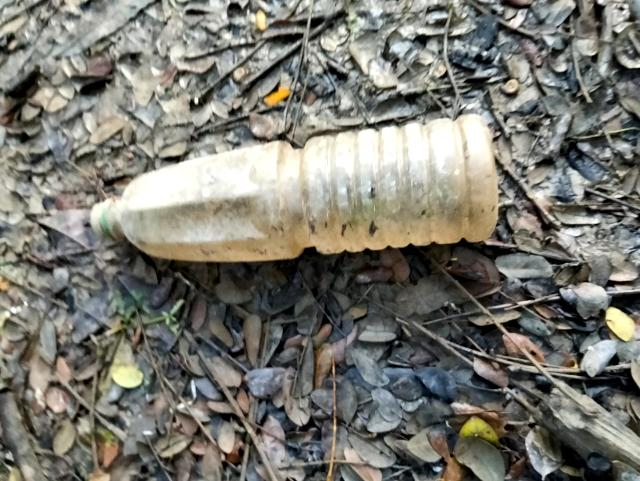bottle: (116, 119, 496, 259)
